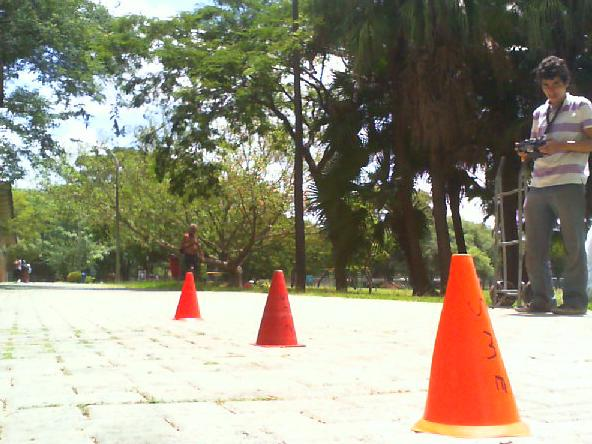0 cone: (412, 254, 530, 438), (250, 270, 306, 349), (170, 272, 205, 322)
